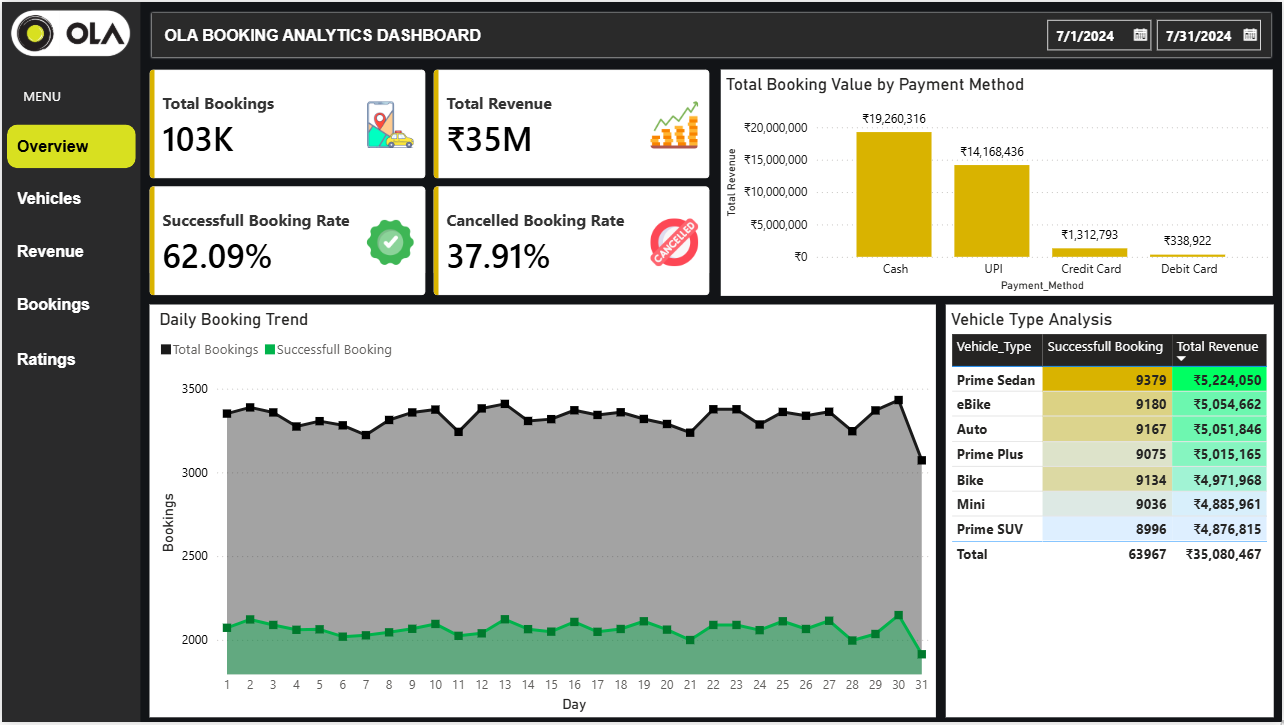

What the dashboard file says about the page in this screenshot:
{"tool":"powerbi","page":{"name":"Overview","canvas":[1280,720],"ordinal":0},"visuals":[{"type":"shape","box":[0,0,138.8,720],"z":0},{"type":"image","box":[8.8,3.8,120,55],"z":1000},{"type":"textbox","box":[16.2,80,53.8,28.8],"z":2000},{"type":"actionButton","box":[5,122.5,128.8,43.8],"z":3000},{"type":"actionButton","box":[5,175,128.8,43.8],"z":4000},{"type":"actionButton","box":[5,227.5,128.8,43.8],"z":5000},{"type":"actionButton","box":[5,281.2,128.8,43.8],"z":6000},{"type":"actionButton","box":[5,336.2,128.8,43.8],"z":7000},{"type":"shape","box":[147.5,8.8,1123.8,48.8],"z":8000},{"type":"textbox","box":[157.5,16.2,355,35],"z":9000},{"type":"cardVisual","fields":{"Data":["OLA_Booking_Dataset.Total Bookings","OLA_Booking_Dataset.Total Revenue","OLA_Booking_Dataset.Successfull Booking %","OLA_Booking_Dataset.Cancelled Booking %"]},"box":[147.9,67.8,561.9,226.7],"z":10000},{"type":"areaChart","title":"Daily Booking Trend","fields":{"Category":["OLA_Booking_Dataset.Date.Variation.Date Hierarchy.Day"],"Y":["OLA_Booking_Dataset.Total Bookings","OLA_Booking_Dataset.Successfull Booking"]},"box":[147.9,303.1,786.1,412.8],"z":11000},{"type":"clusteredColumnChart","title":"Total Booking Value by Payment Method","fields":{"Category":["OLA_Booking_Dataset.Payment_Method"],"Y":["OLA_Booking_Dataset.Total Revenue"]},"box":[718.4,67.8,552,226.7],"z":12000},{"type":"tableEx","title":"Vehicle Type Analysis","fields":{"Values":["OLA_Booking_Dataset.Vehicle_Type","OLA_Booking_Dataset.Successfull Booking","OLA_Booking_Dataset.Total Revenue"]},"box":[943.9,303.1,327.8,412.8],"z":13000},{"type":"slicer","fields":{"Values":["OLA_Booking_Dataset.Date"]},"box":[1032.6,7.4,239,45.6],"z":14000}]}

Visuals, with their boxes in screenshot pixels (x1, y1, x2, y2), scaled from the page's 1280x720 canvas onto the 1284x725 screenshot:
shape: [x1=0, y1=0, x2=139, y2=724]
image: [x1=9, y1=4, x2=129, y2=59]
textbox: [x1=16, y1=81, x2=70, y2=110]
actionButton: [x1=5, y1=123, x2=134, y2=167]
actionButton: [x1=5, y1=176, x2=134, y2=220]
actionButton: [x1=5, y1=229, x2=134, y2=273]
actionButton: [x1=5, y1=283, x2=134, y2=327]
actionButton: [x1=5, y1=339, x2=134, y2=383]
shape: [x1=148, y1=9, x2=1275, y2=58]
textbox: [x1=158, y1=16, x2=514, y2=52]
cardVisual - OLA_Booking_Dataset.Total Bookings x OLA_Booking_Dataset.Total Revenue: [x1=148, y1=68, x2=712, y2=297]
"Daily Booking Trend" areaChart: [x1=148, y1=305, x2=937, y2=721]
"Total Booking Value by Payment Method" clusteredColumnChart: [x1=721, y1=68, x2=1274, y2=297]
"Vehicle Type Analysis" tableEx: [x1=947, y1=305, x2=1276, y2=721]
slicer - OLA_Booking_Dataset.Date: [x1=1036, y1=7, x2=1276, y2=53]
